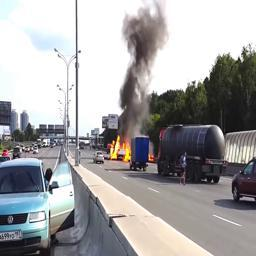fire: (108, 135, 131, 162)
